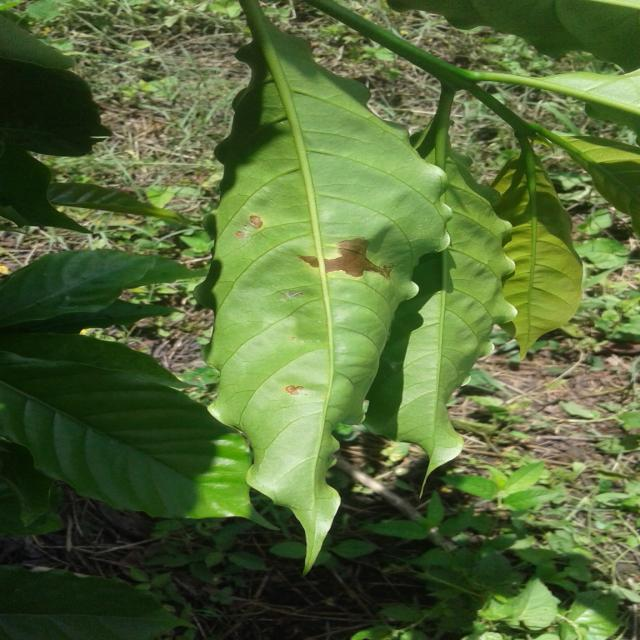Plaga-AranaRoja: (209, 0, 446, 573)
